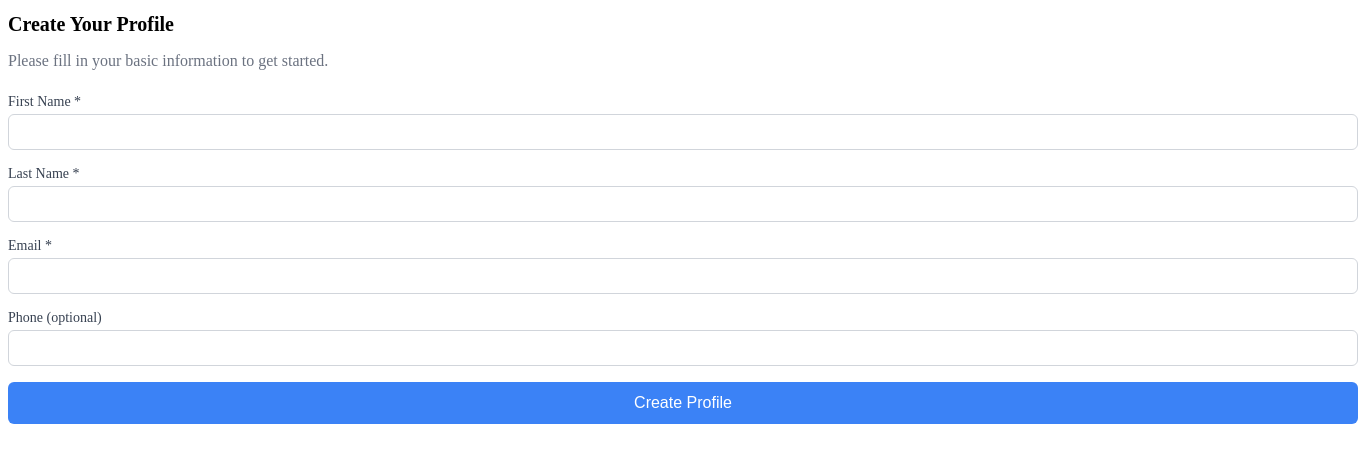
Test: Step1_ProfileForm › validation gates (§3.4) › should prevent submission when email format is invalid
// Fill in valid name fields so only email error shows
Type "John" into the field with test id "input-firstName".
click(683, 132); type("John")  # box [8,114,1358,150]
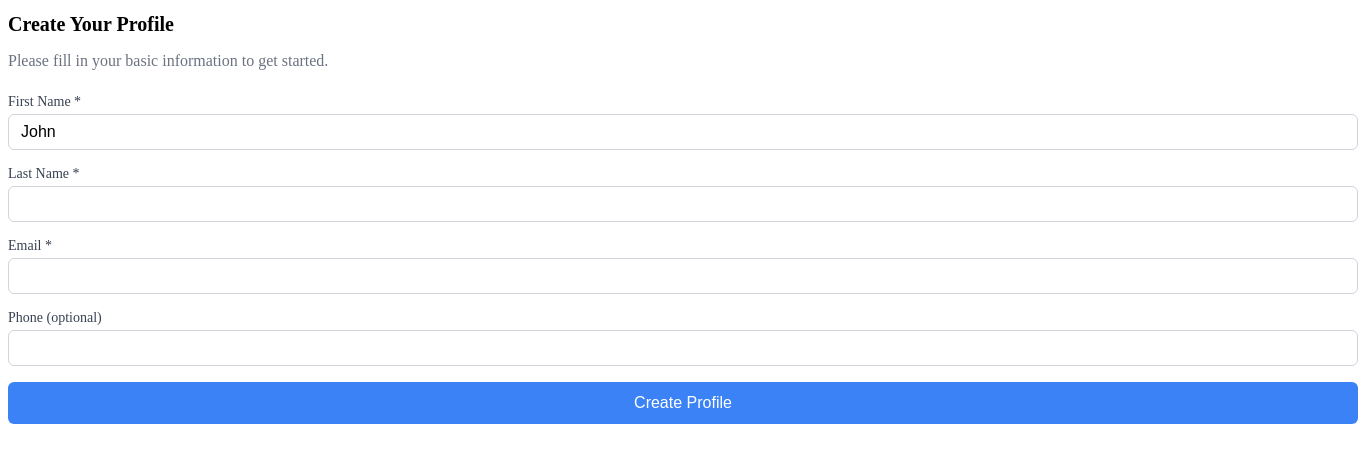
Type "Doe" into the field with test id "input-lastName".
click(683, 204); type("Doe")  # box [8,186,1358,222]
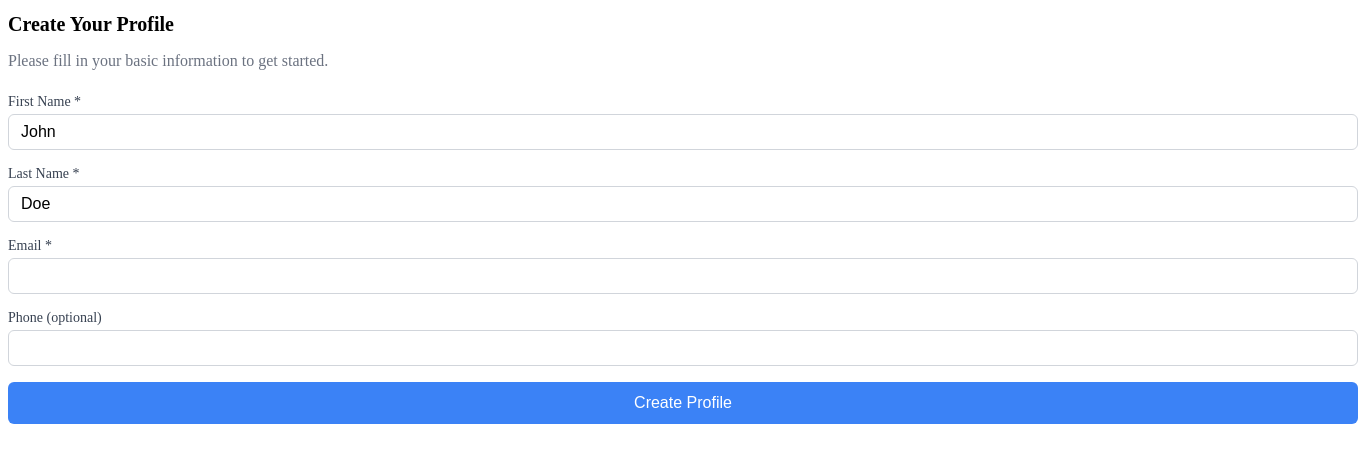
Type "not-an-email" into the field with test id "input-email".
click(683, 276); type("not-an-email")  # box [8,258,1358,294]
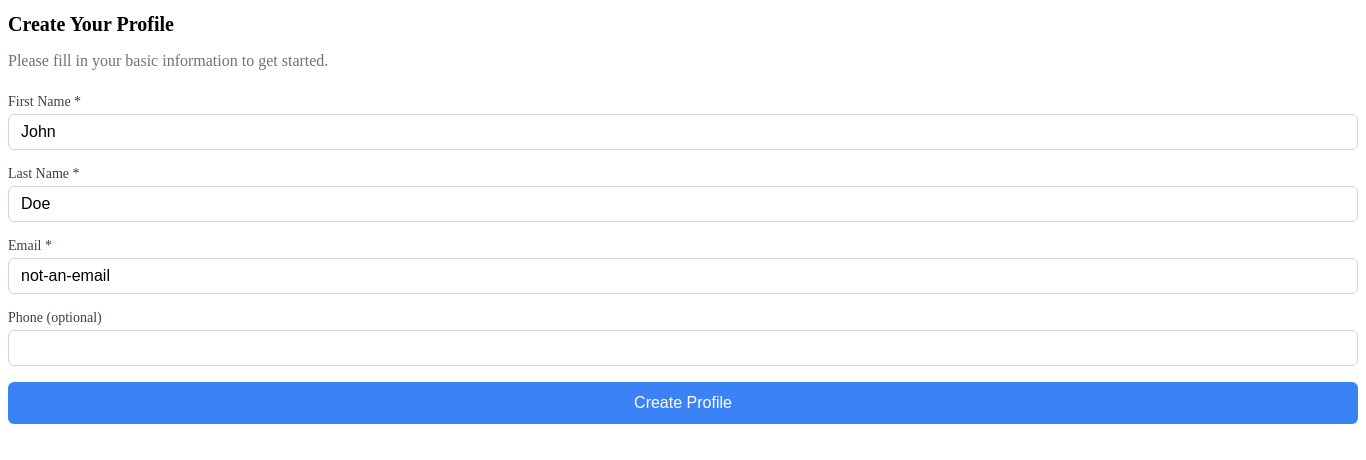
Submit the form with test id "step1-submit"
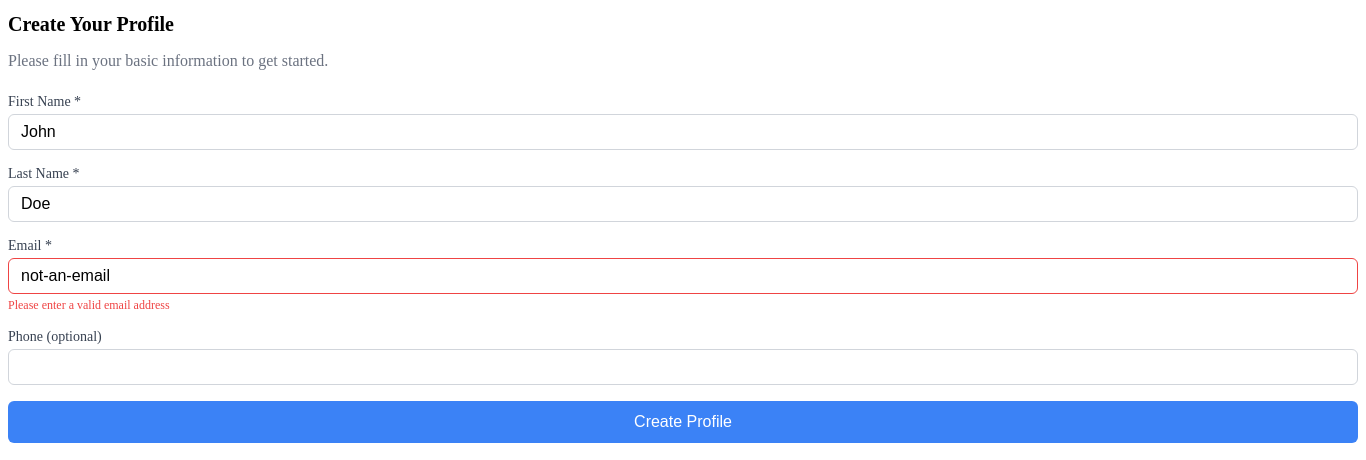
Result: the text with test id "error-email" reads "Please enter a valid email address" at [8,298,170,312]
